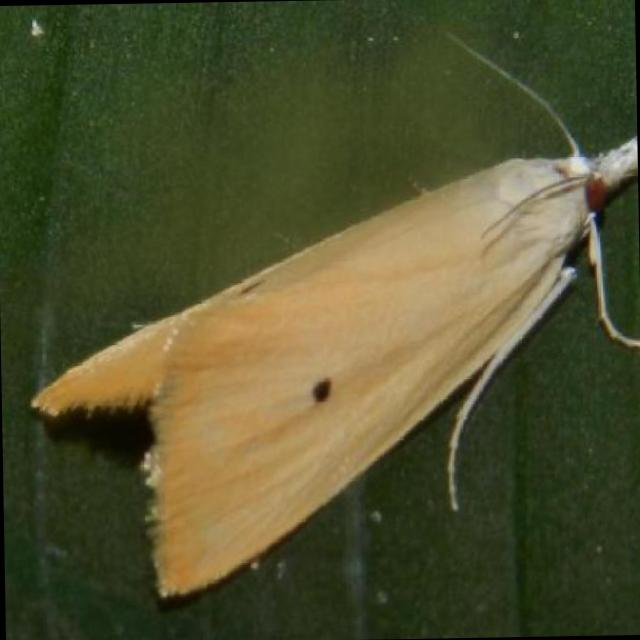stem-borer: (19, 115, 640, 607)
